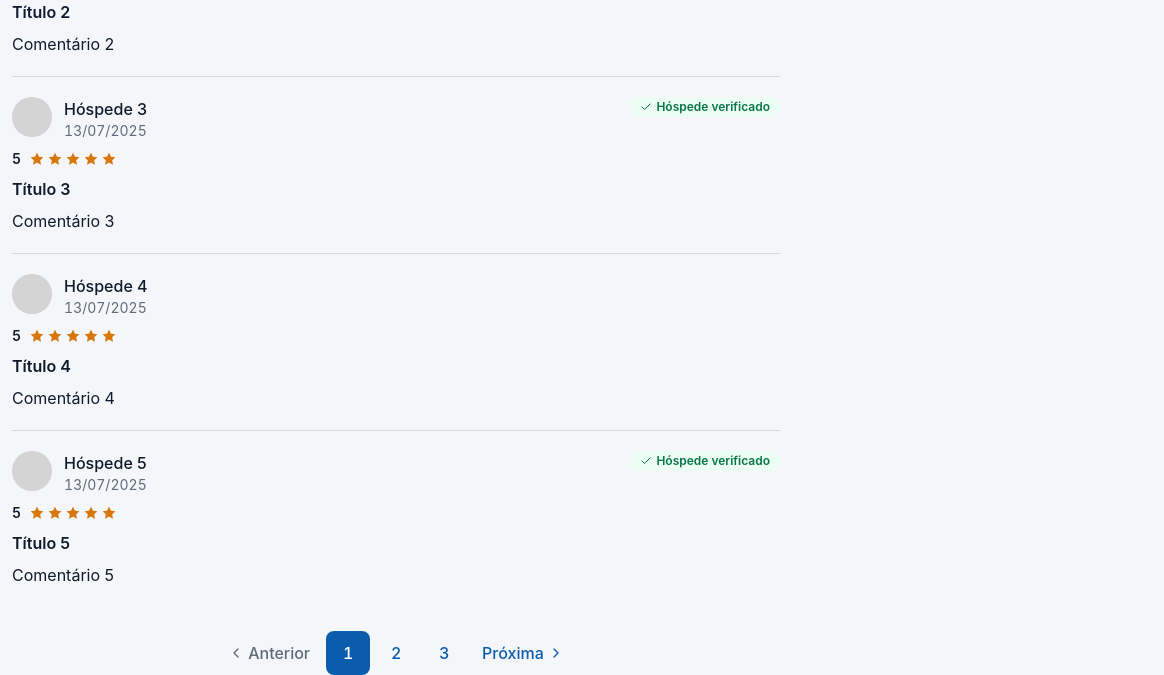
Test case: ReviewsSection: trocar de página (critério 29) › a página 3 tem 4 itens
(page scrolled)
Step 1. Click the button "3" → (444, 653), box x1=422 y1=631 x2=466 y2=674
(page scrolled)
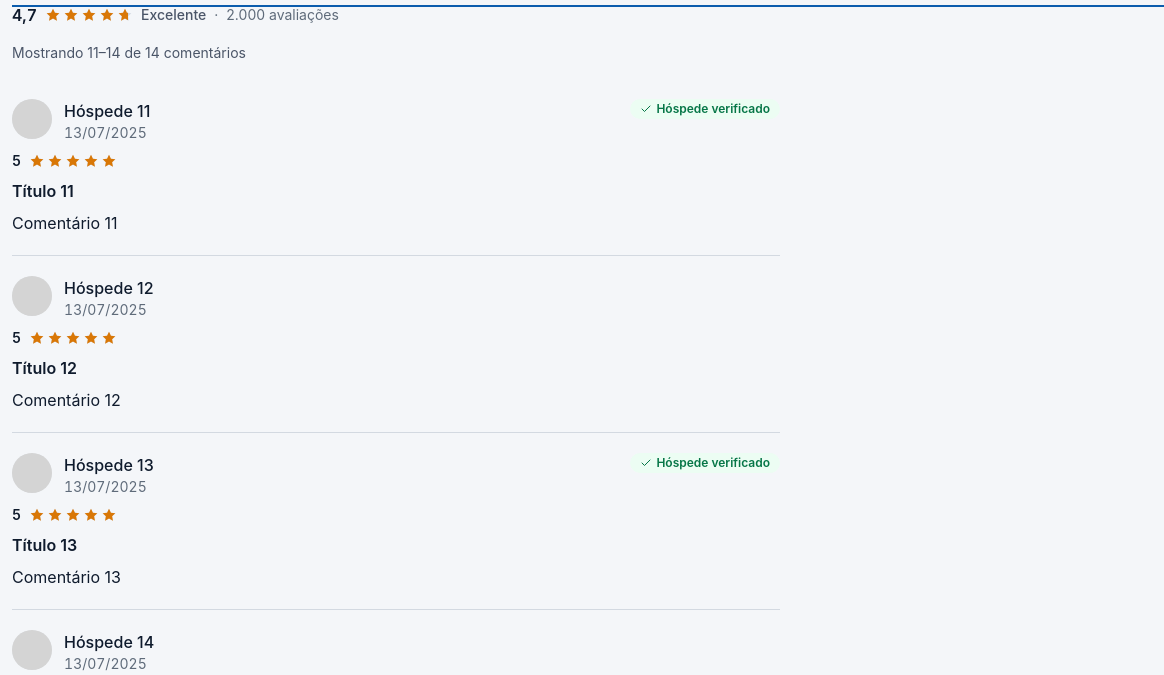
expect the heading "Título 11" is shown: met, box x1=12 y1=181 x2=74 y2=201
expect the text "Mostrando 11–14 de 14 comentários" is shown: met, box x1=12 y1=44 x2=246 y2=61
